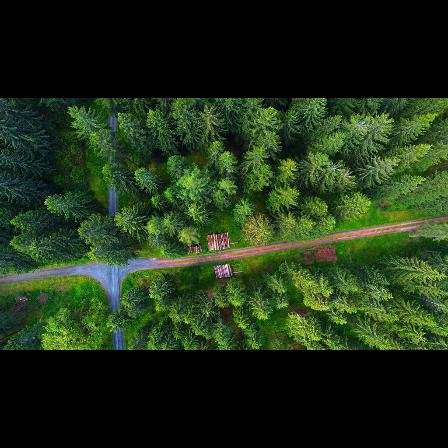Sick: (325, 158, 343, 177)
